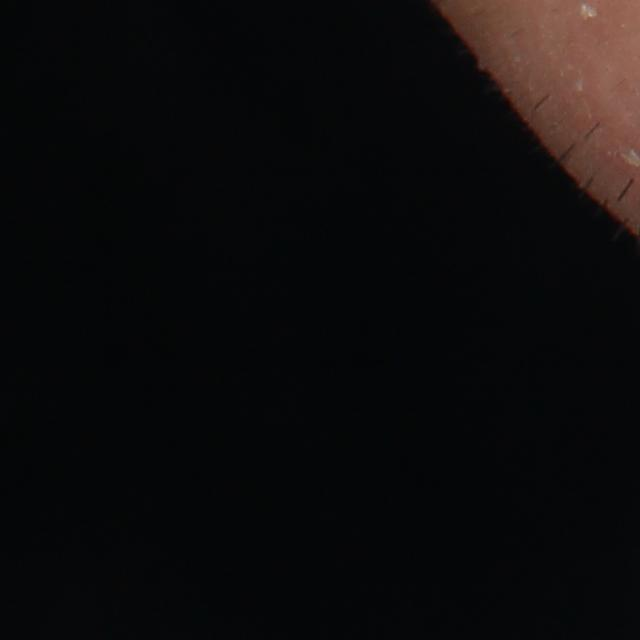other: (575, 3, 601, 24)
